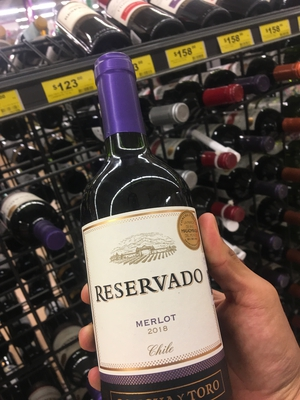reservado merlot: (82, 52, 237, 400)
